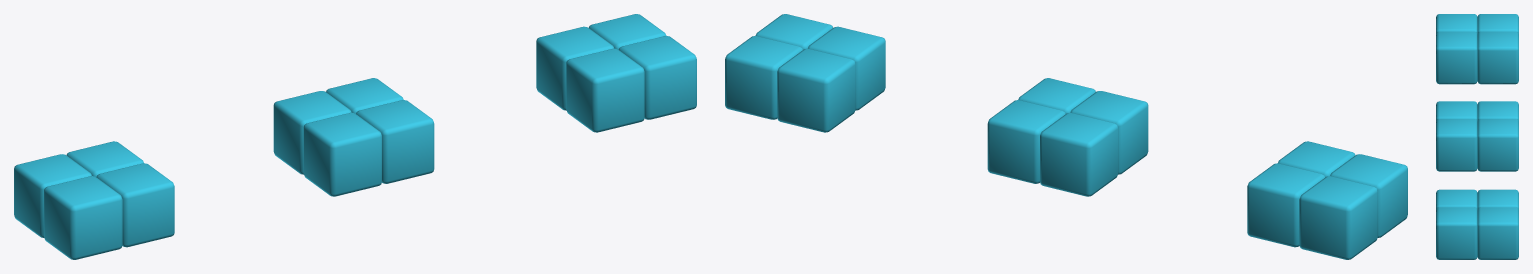
File: obstacle2.glb
3 views of the same model, side by side, from view 1: azimuth 30°, elevation 25°; view 2: azimuth 150°, elevation 25°; view 3: azimuth 270°, elevation 25° (orthographic). The views are drawn at different scales.
Parts seen in each view (by area): view 1: Object_8; view 2: Object_8; view 3: Object_8.
Boxes of the visible parts, x1,y1,x2,y2 form: Object_8: (14, 14, 696, 259); Object_8: (725, 14, 1407, 259); Object_8: (1436, 14, 1518, 259).
Size of the model in its own units: 50.43 by 4.2 by 8.38.
